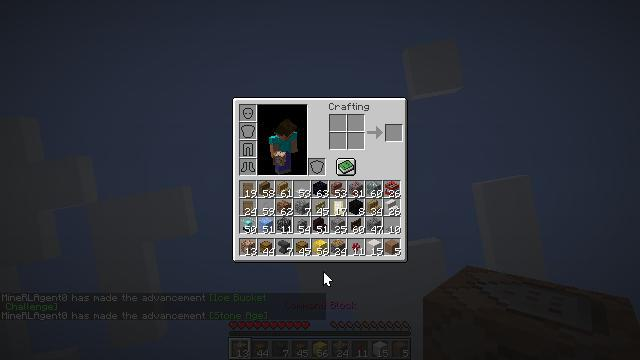cursor: (323, 271, 333, 287)
